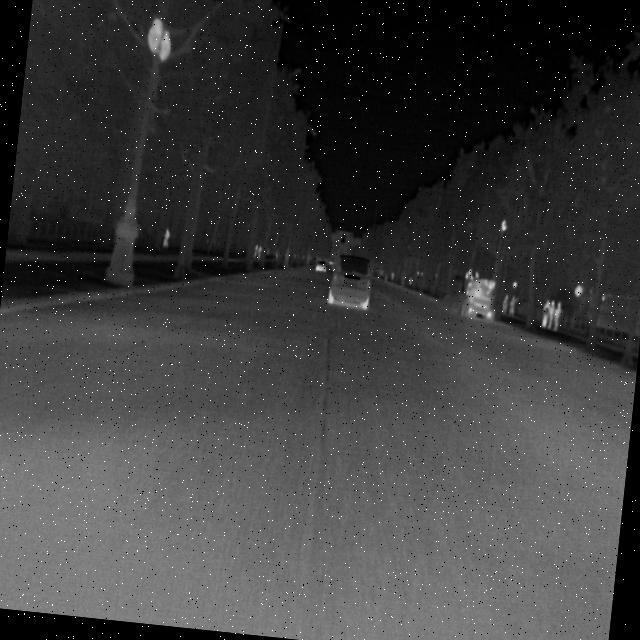Pedestrian: (552, 299, 564, 334), (540, 296, 550, 330), (547, 298, 556, 331), (160, 227, 170, 250)
Vehicle: (324, 249, 376, 311)
